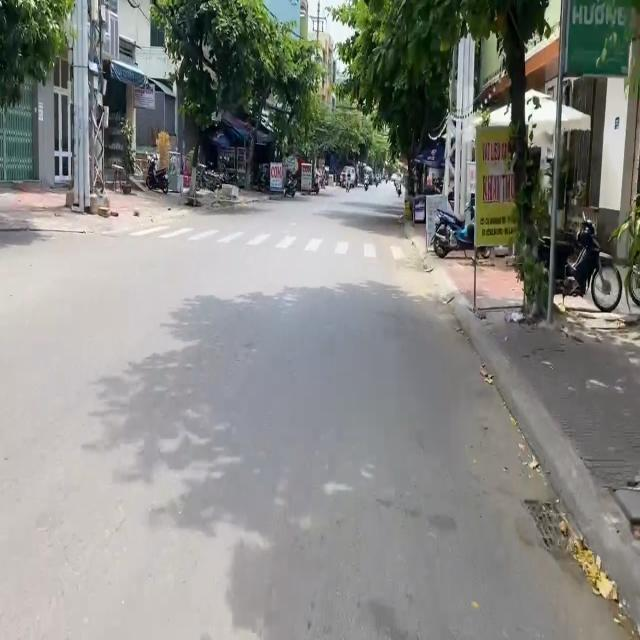walk-crossing: (146, 213, 414, 263)
